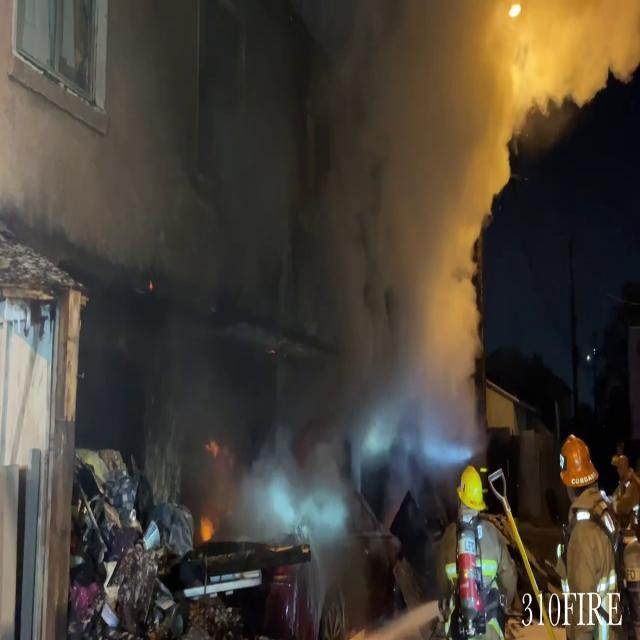Smoke: (253, 0, 532, 459)
